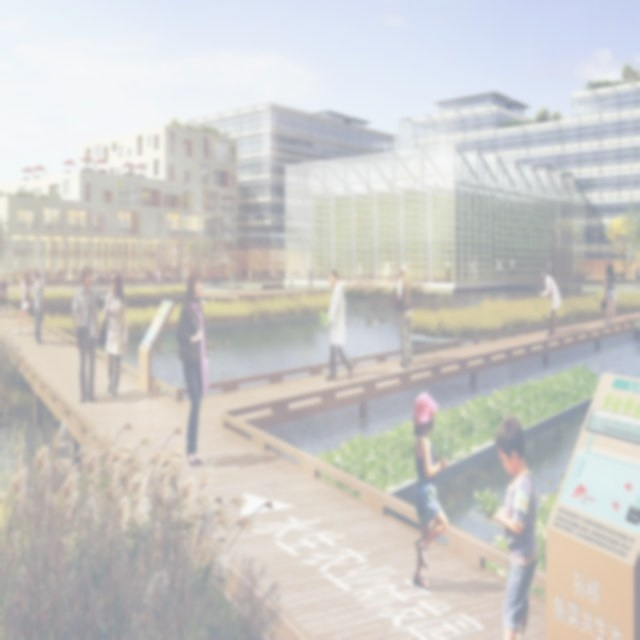pessoa: (472, 412, 540, 640), (410, 390, 450, 592), (175, 270, 210, 470), (96, 268, 130, 402), (318, 268, 355, 382), (71, 264, 101, 404), (394, 262, 414, 368), (431, 574, 508, 599), (206, 448, 282, 471), (538, 272, 562, 338), (11, 271, 31, 336), (92, 388, 168, 405), (32, 269, 46, 345), (338, 367, 392, 383), (603, 263, 616, 327), (410, 354, 462, 368), (602, 264, 613, 326), (574, 266, 606, 282), (236, 234, 285, 244), (235, 212, 285, 220), (0, 272, 8, 318), (557, 326, 589, 336), (38, 274, 44, 327), (228, 270, 236, 294), (445, 258, 452, 284), (70, 222, 88, 232), (42, 220, 58, 231), (140, 265, 152, 279), (12, 266, 22, 281), (470, 257, 476, 281), (614, 268, 626, 280), (308, 270, 314, 292), (257, 268, 270, 278), (236, 268, 249, 278), (288, 272, 294, 293), (634, 265, 639, 289), (546, 258, 552, 278), (380, 259, 385, 283), (158, 268, 164, 288), (156, 268, 162, 288), (150, 268, 156, 288), (497, 258, 502, 280), (0, 265, 7, 280), (386, 258, 390, 282), (72, 266, 78, 282), (547, 260, 552, 278), (109, 266, 120, 274), (130, 272, 135, 289), (41, 270, 45, 291), (48, 266, 55, 278), (510, 256, 514, 276), (166, 268, 170, 288), (154, 266, 158, 286), (92, 270, 96, 290), (291, 268, 301, 276), (276, 267, 284, 277), (92, 266, 102, 274), (102, 269, 106, 288), (211, 268, 215, 286), (186, 268, 190, 286), (100, 270, 104, 288), (268, 269, 273, 283), (120, 223, 126, 234), (106, 270, 110, 286), (129, 268, 132, 288), (62, 268, 66, 283), (28, 268, 32, 283), (59, 268, 63, 282), (132, 269, 138, 278), (254, 268, 257, 284), (215, 274, 219, 286), (121, 266, 127, 274), (168, 227, 173, 236), (182, 267, 185, 281), (31, 268, 34, 282), (306, 266, 310, 276), (94, 224, 99, 232), (182, 269, 184, 286), (250, 268, 252, 284), (318, 263, 320, 279), (38, 270, 46, 274), (189, 228, 193, 236), (248, 268, 250, 282), (174, 267, 176, 280), (172, 268, 175, 275), (34, 265, 38, 270), (252, 268, 254, 276), (130, 266, 132, 270), (105, 270, 106, 278)
